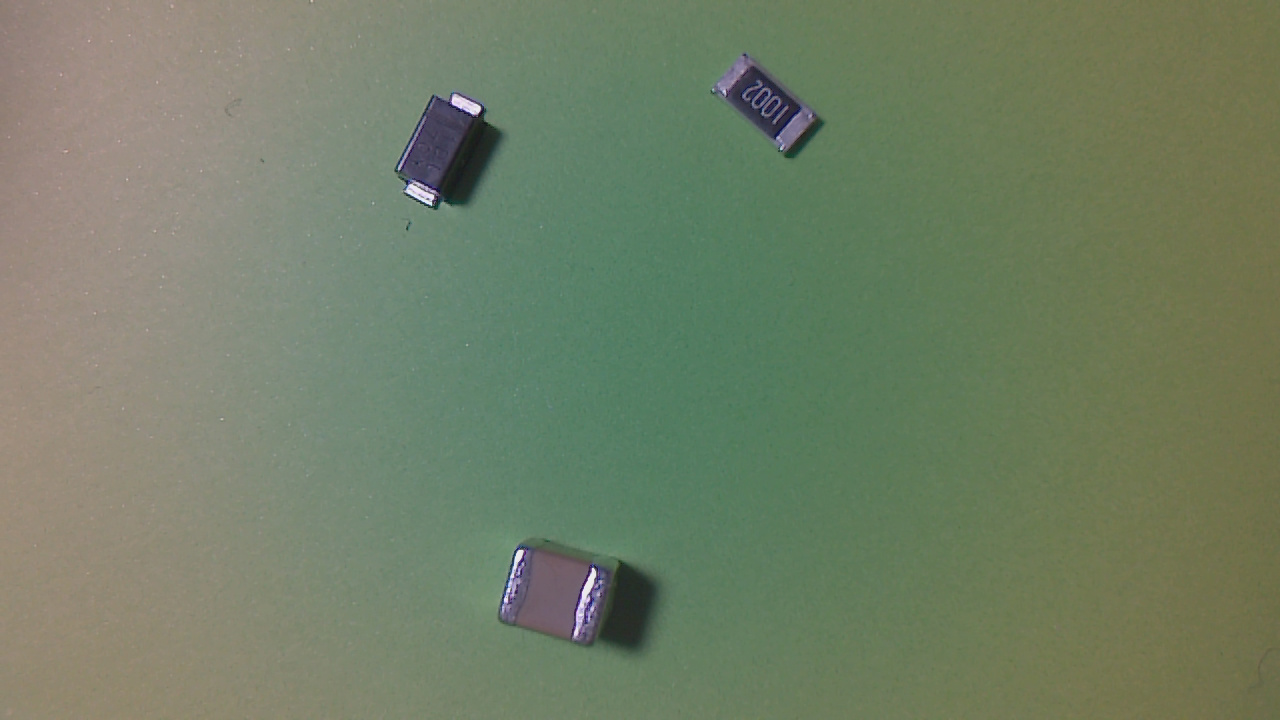Condensator: (502, 541, 616, 649)
Diode: (397, 89, 496, 212)
Resistor: (714, 55, 828, 161)
